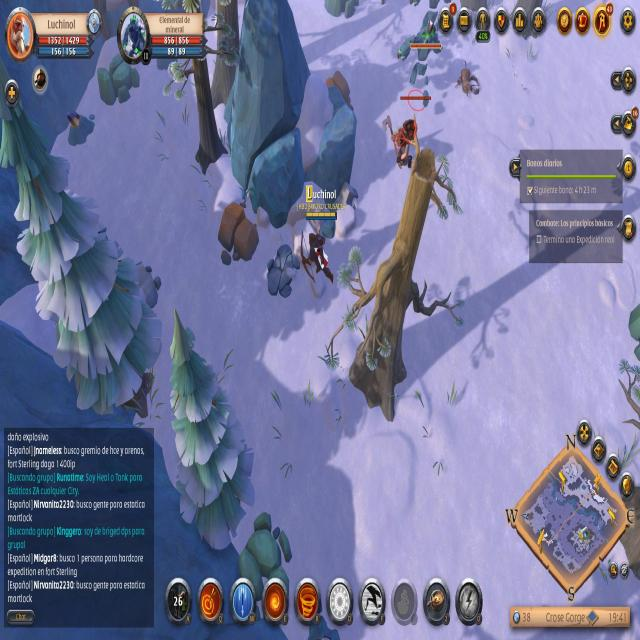piedra_cobre: (60, 104, 104, 157)
